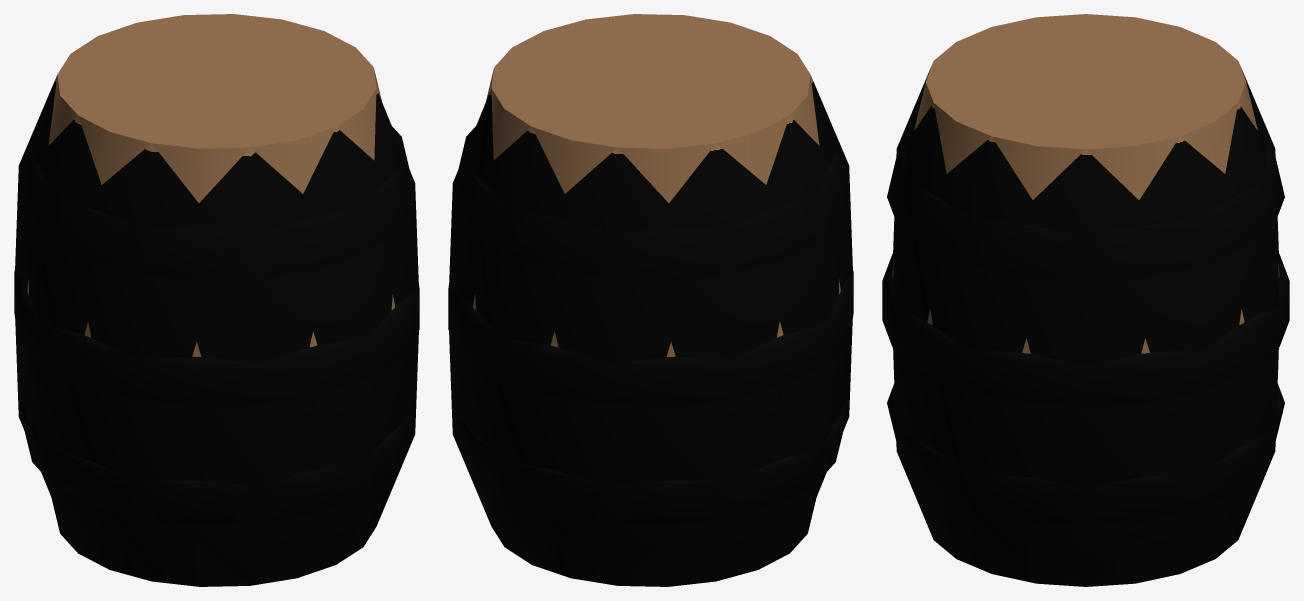
File: Deco_Barrel_Collider_Compound.glb
3 views of the same model, side by side, from view 1: azimuth 30°, elevation 25°; view 2: azimuth 150°, elevation 25°; view 3: azimuth 270°, elevation 25° (orthographic).
Visible parts, largest first — view 1: Deco_Barrel_Collider_ConvexHull, Deco_Barrel_Collider_Compound; view 2: Deco_Barrel_Collider_ConvexHull, Deco_Barrel_Collider_Compound; view 3: Deco_Barrel_Collider_ConvexHull, Deco_Barrel_Collider_Compound.
Part boxes in pixels (bbox=[...]): Deco_Barrel_Collider_ConvexHull: bbox=[15, 15, 418, 585]; Deco_Barrel_Collider_Compound: bbox=[14, 14, 419, 586]; Deco_Barrel_Collider_ConvexHull: bbox=[449, 15, 852, 585]; Deco_Barrel_Collider_Compound: bbox=[448, 14, 853, 586]; Deco_Barrel_Collider_ConvexHull: bbox=[893, 14, 1278, 586]; Deco_Barrel_Collider_Compound: bbox=[882, 14, 1289, 586].
Bounding box in the file's own units: 1.69 × 2 × 1.69.
Materials: 1 (1 with a texture image).
